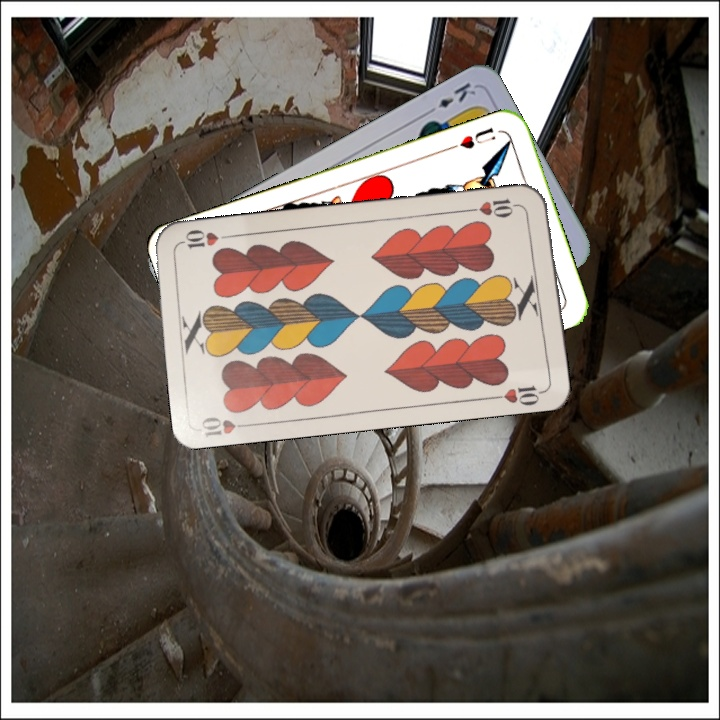EK: (422, 78, 479, 118)
H10: (197, 412, 256, 439), (465, 194, 524, 220)
HU: (445, 123, 498, 152)
